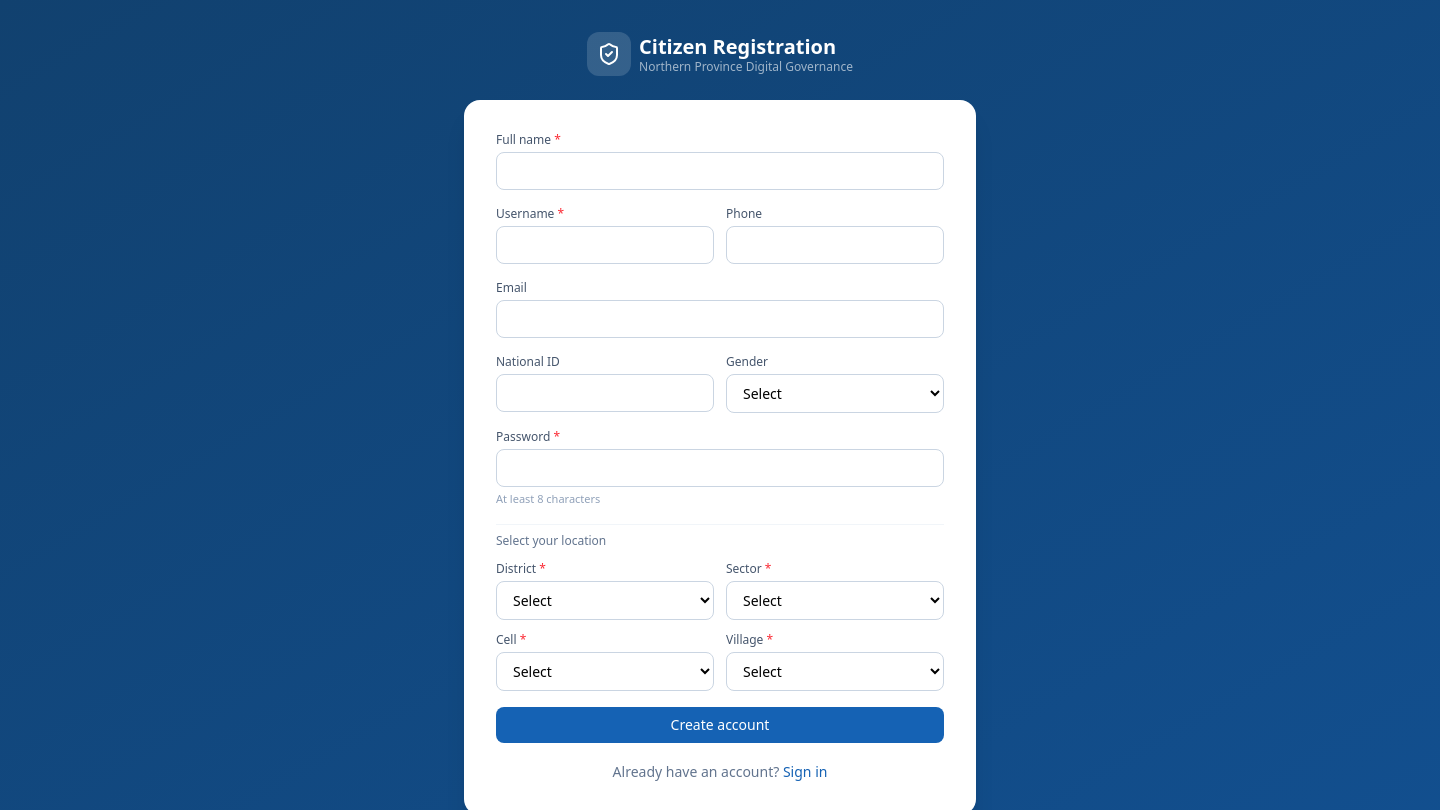
Register › shows an error when registration fails
The width and height of the screenshot is (1440, 810).
Step 1. Type "New Citizen" into the field labelled "Full name *" → coordinates (720, 171), box [496,152,944,190]
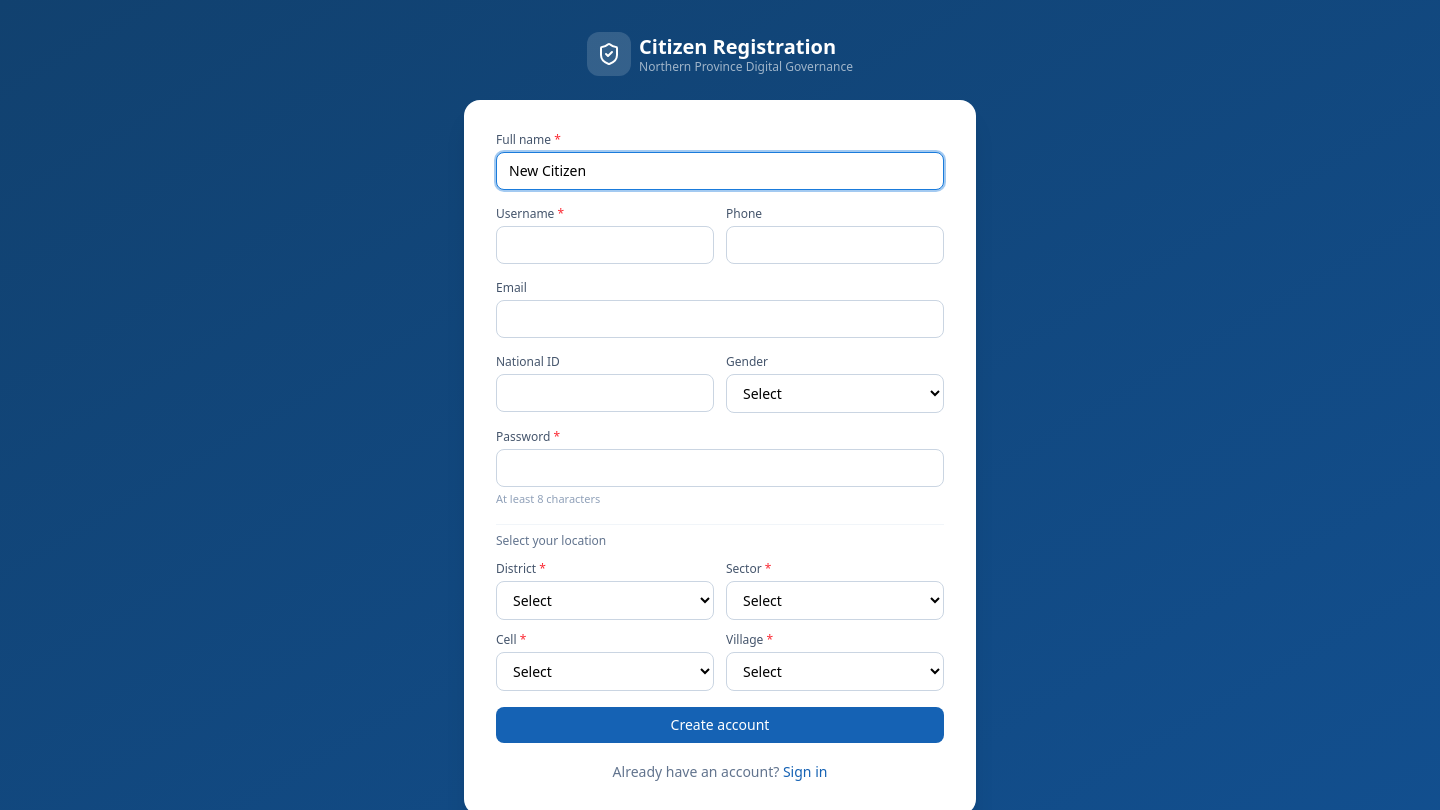
Step 2. Type "newcitizen" into the field labelled "Username *" → coordinates (605, 245), box [496,226,714,264]
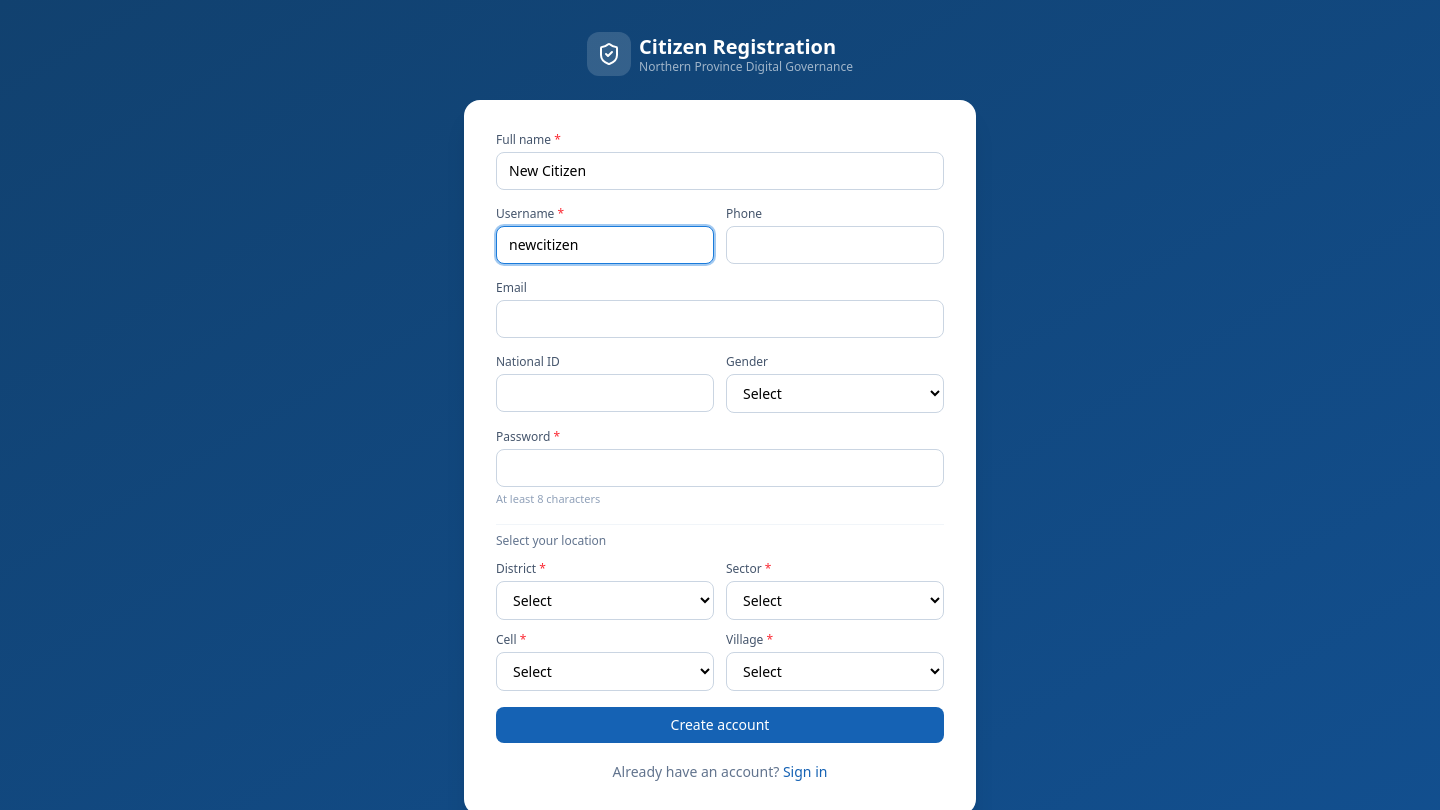
Step 3. Type "Password123!" into the password field labelled "Password * At least 8 characters" → coordinates (720, 468), box [496,449,944,487]
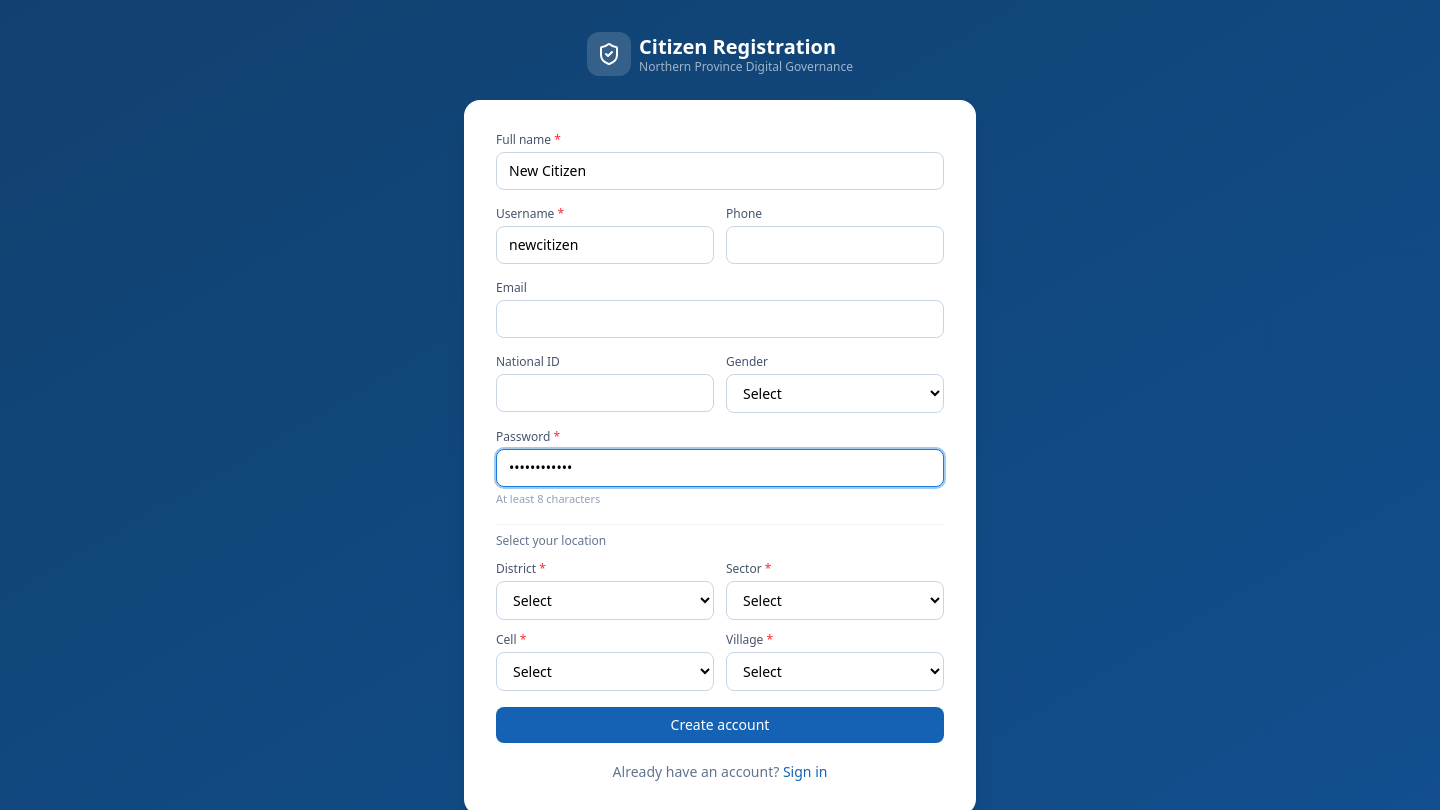
Step 4. Click the button "Create account" → coordinates (720, 724), box [496,706,944,742]
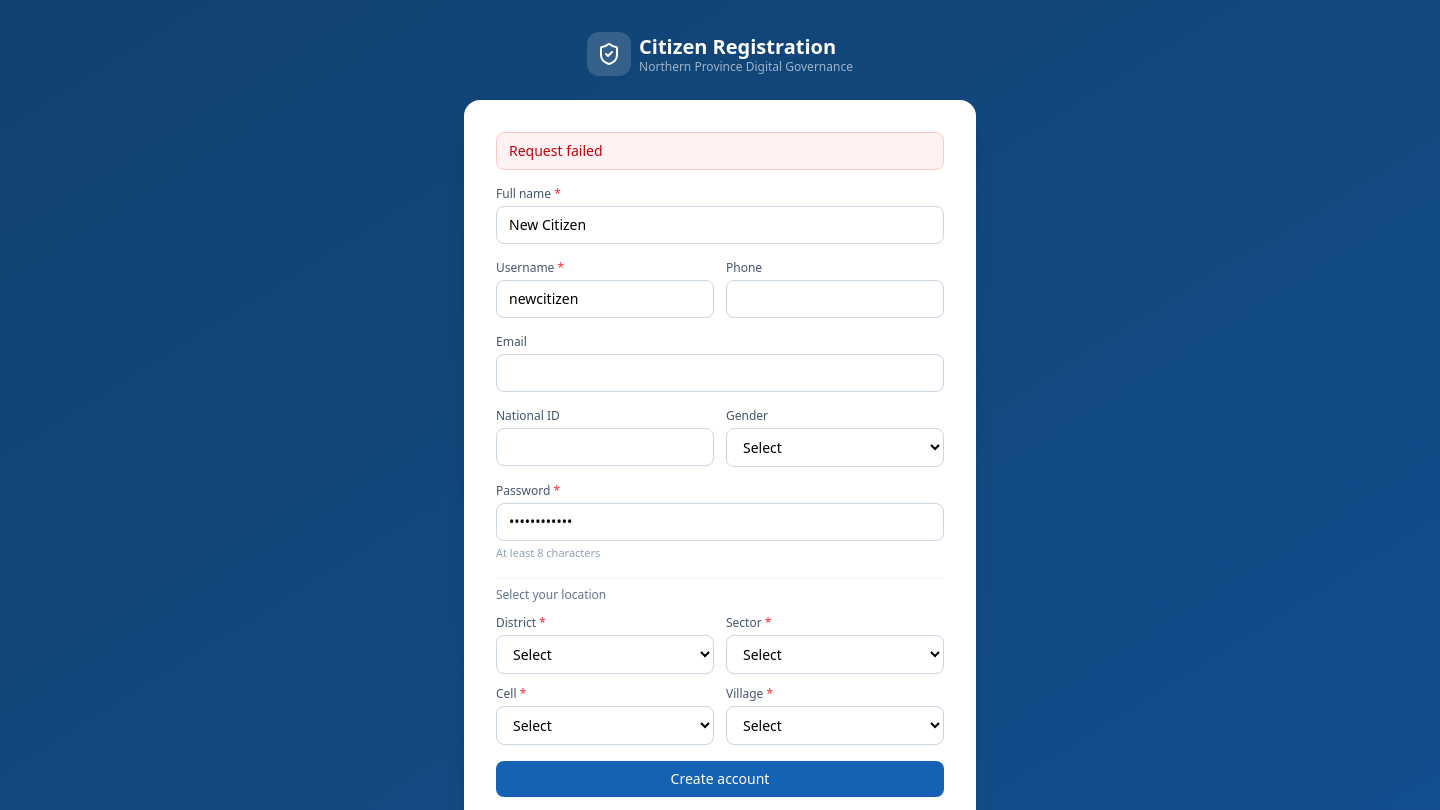
expect the text "Request failed" is shown: met, box [496,132,944,170]
